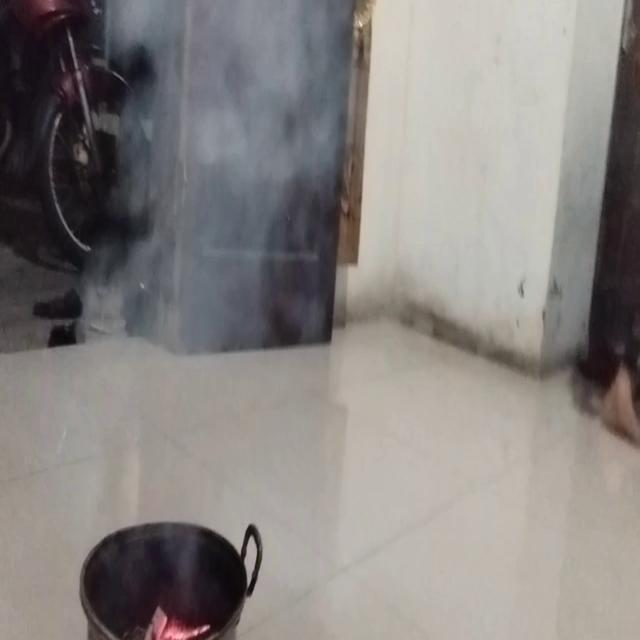fire: (120, 0, 352, 353)
